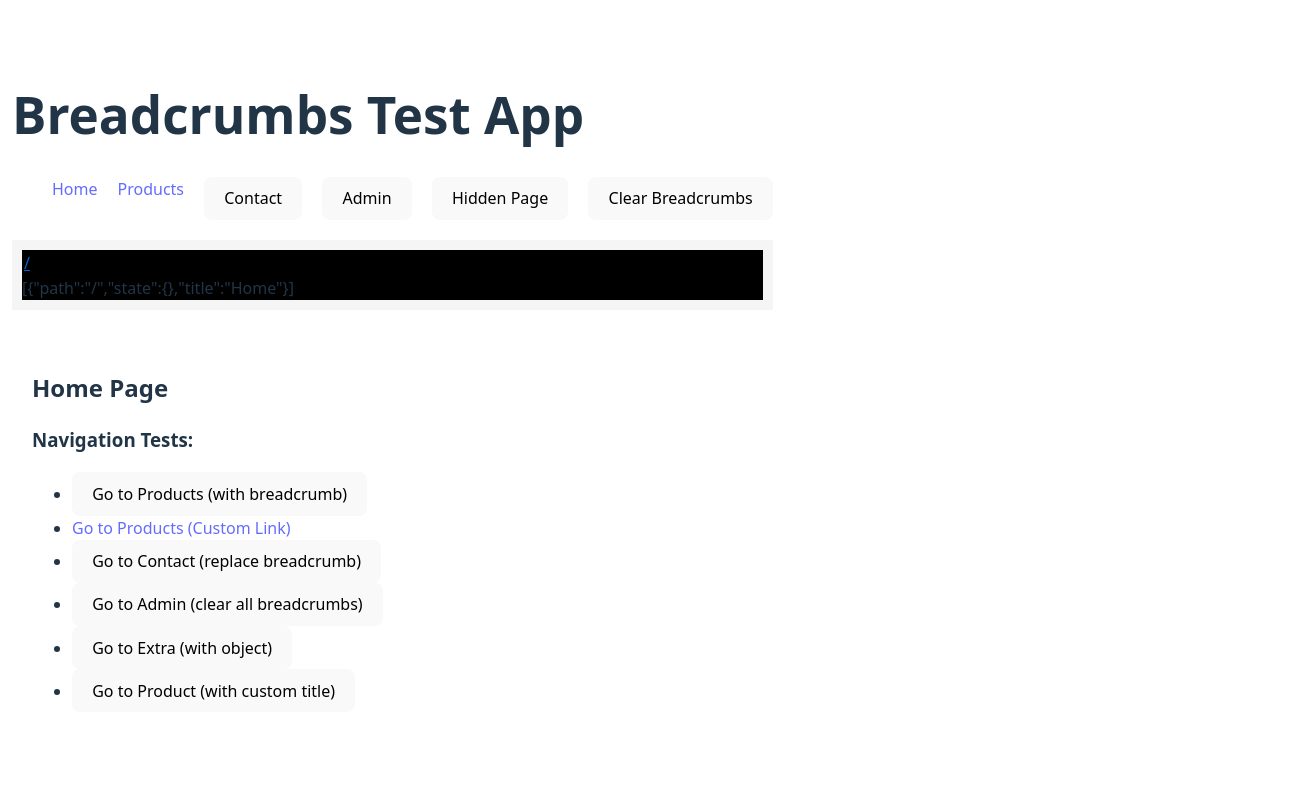
Test: #navigateWithBreadcrumbs() › Replace should work
Step 1. Click the button with test id "buttonLink-contact-replace" → (227, 561), box top-left (72, 540), bottom-right (381, 583)
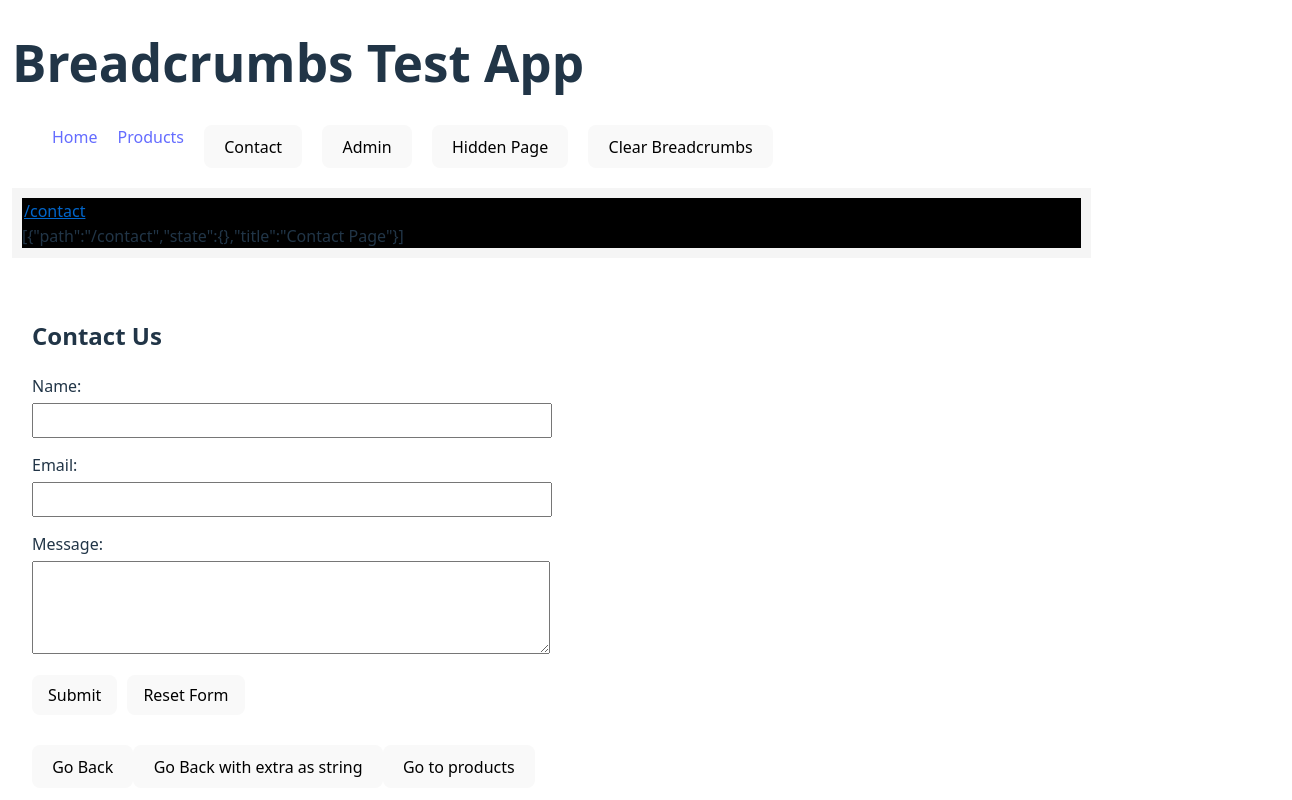
Result: the button "/contact" is shown at top-left (22, 198), bottom-right (87, 224)
